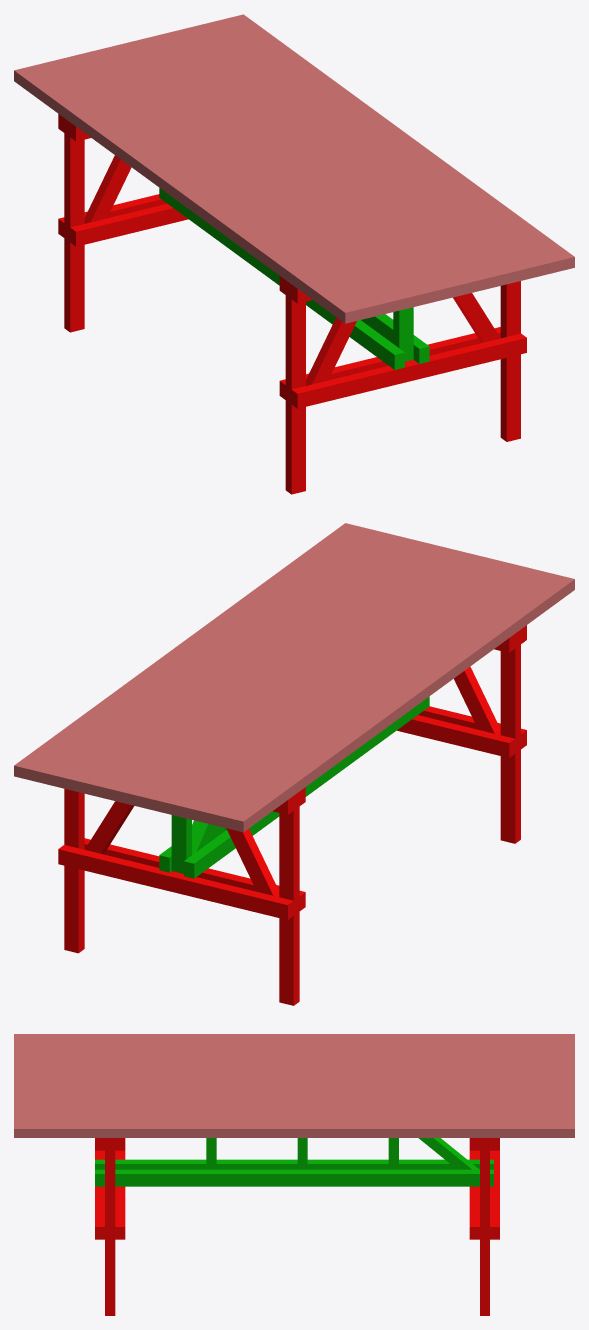
The model's file is result.glb.
The picture shows the model from 3 angles, top to bottom: view 1: azimuth 30°, elevation 25°; view 2: azimuth 150°, elevation 25°; view 3: azimuth 270°, elevation 25°; orthographic projection. The views are drawn at different scales.
Visible parts, largest first — view 1: bc7ca1d5-4bf3-4f80-877b-90ab5a0e6a28__Box, cbd51580-69b2-4e37-aab6-4c87bda5acf4__undefined, 4b376bc0-7a79-4678-9560-7ae77af9396f__undefined, aaada996-bd9d-4893-8df0-fd60da9d4931__undefined, 3e93f673-156d-4b93-aecb-b15bac3ff926__undefined, 1c0e351c-07f0-4777-8caa-ca30fa669742__undefined, e21acd7b-6370-4d5b-8054-edd0d2c820cb__undefined, e490df00-a222-4a5f-b118-ffced394d7e8__undefined, b035289c-e28d-44bf-9b0f-0f6e95bfee4e__undefined, 2f6dca5c-f766-4648-bf6b-dd4f1714ef22__undefined, 9b8a79d6-085e-4a81-bdf2-0b59204cf928__undefined, 53691ad2-52fc-4132-80f1-457ed4513b25__undefined (+17 smaller); view 2: bc7ca1d5-4bf3-4f80-877b-90ab5a0e6a28__Box, 9b8a79d6-085e-4a81-bdf2-0b59204cf928__undefined, e490df00-a222-4a5f-b118-ffced394d7e8__undefined, 53691ad2-52fc-4132-80f1-457ed4513b25__undefined, 2f6dca5c-f766-4648-bf6b-dd4f1714ef22__undefined, a8be9e64-4c8b-46ee-bf06-e202c7d90693__undefined, 6b5c2bfc-6cff-40a8-9102-c499b14c99c0__undefined, cbd51580-69b2-4e37-aab6-4c87bda5acf4__undefined, 4f3c63eb-ccbe-4453-beac-0d7cb98727b1__undefined, e21acd7b-6370-4d5b-8054-edd0d2c820cb__undefined, d8e7965c-5536-4617-9edd-14ce85f1e4e0__undefined, 4b376bc0-7a79-4678-9560-7ae77af9396f__undefined (+16 smaller); view 3: a8be9e64-4c8b-46ee-bf06-e202c7d90693__undefined, 0b390092-4693-448e-8827-ea68c1859a18__strutH, 9b8a79d6-085e-4a81-bdf2-0b59204cf928__undefined, d8e7965c-5536-4617-9edd-14ce85f1e4e0__undefined, 4b376bc0-7a79-4678-9560-7ae77af9396f__undefined, e490df00-a222-4a5f-b118-ffced394d7e8__undefined, aaada996-bd9d-4893-8df0-fd60da9d4931__undefined, b035289c-e28d-44bf-9b0f-0f6e95bfee4e__undefined, 53691ad2-52fc-4132-80f1-457ed4513b25__undefined, 4f3c63eb-ccbe-4453-beac-0d7cb98727b1__undefined, 1f507586-e944-4f97-b188-337954a376e5__strutH, bc7ca1d5-4bf3-4f80-877b-90ab5a0e6a28__Box (+13 smaller).
Part boxes in pixels (x1,y1,x2,y2): bc7ca1d5-4bf3-4f80-877b-90ab5a0e6a28__Box: [14, 67, 359, 323]; cbd51580-69b2-4e37-aab6-4c87bda5acf4__undefined: [215, 18, 560, 274]; 4b376bc0-7a79-4678-9560-7ae77af9396f__undefined: [86, 49, 431, 306]; aaada996-bd9d-4893-8df0-fd60da9d4931__undefined: [115, 42, 460, 298]; 3e93f673-156d-4b93-aecb-b15bac3ff926__undefined: [172, 28, 517, 284]; 1c0e351c-07f0-4777-8caa-ca30fa669742__undefined: [201, 21, 546, 277]; e21acd7b-6370-4d5b-8054-edd0d2c820cb__undefined: [43, 60, 388, 316]; e490df00-a222-4a5f-b118-ffced394d7e8__undefined: [100, 46, 445, 302]; b035289c-e28d-44bf-9b0f-0f6e95bfee4e__undefined: [129, 39, 474, 295]; 2f6dca5c-f766-4648-bf6b-dd4f1714ef22__undefined: [186, 25, 531, 281]; 9b8a79d6-085e-4a81-bdf2-0b59204cf928__undefined: [57, 56, 402, 313]; 53691ad2-52fc-4132-80f1-457ed4513b25__undefined: [143, 35, 488, 291]; bc7ca1d5-4bf3-4f80-877b-90ab5a0e6a28__Box: [229, 575, 574, 832]; 9b8a79d6-085e-4a81-bdf2-0b59204cf928__undefined: [186, 565, 531, 821]; e490df00-a222-4a5f-b118-ffced394d7e8__undefined: [143, 554, 488, 811]; 53691ad2-52fc-4132-80f1-457ed4513b25__undefined: [100, 544, 445, 800]; 2f6dca5c-f766-4648-bf6b-dd4f1714ef22__undefined: [57, 533, 402, 790]; a8be9e64-4c8b-46ee-bf06-e202c7d90693__undefined: [14, 523, 359, 779]; 6b5c2bfc-6cff-40a8-9102-c499b14c99c0__undefined: [215, 572, 560, 828]; cbd51580-69b2-4e37-aab6-4c87bda5acf4__undefined: [28, 526, 373, 783]; 4f3c63eb-ccbe-4453-beac-0d7cb98727b1__undefined: [85, 540, 430, 797]; e21acd7b-6370-4d5b-8054-edd0d2c820cb__undefined: [200, 568, 545, 825]; d8e7965c-5536-4617-9edd-14ce85f1e4e0__undefined: [172, 561, 516, 818]; 4b376bc0-7a79-4678-9560-7ae77af9396f__undefined: [157, 558, 502, 814]; a8be9e64-4c8b-46ee-bf06-e202c7d90693__undefined: [14, 1123, 574, 1137]; 0b390092-4693-448e-8827-ea68c1859a18__strutH: [95, 1169, 493, 1186]; 9b8a79d6-085e-4a81-bdf2-0b59204cf928__undefined: [14, 1051, 574, 1057]; d8e7965c-5536-4617-9edd-14ce85f1e4e0__undefined: [14, 1057, 574, 1063]; 4b376bc0-7a79-4678-9560-7ae77af9396f__undefined: [14, 1063, 574, 1069]; e490df00-a222-4a5f-b118-ffced394d7e8__undefined: [14, 1069, 574, 1075]; aaada996-bd9d-4893-8df0-fd60da9d4931__undefined: [14, 1075, 574, 1081]; b035289c-e28d-44bf-9b0f-0f6e95bfee4e__undefined: [14, 1081, 574, 1087]; 53691ad2-52fc-4132-80f1-457ed4513b25__undefined: [14, 1087, 574, 1093]; 4f3c63eb-ccbe-4453-beac-0d7cb98727b1__undefined: [14, 1093, 574, 1099]; 1f507586-e944-4f97-b188-337954a376e5__strutH: [95, 1159, 493, 1169]; bc7ca1d5-4bf3-4f80-877b-90ab5a0e6a28__Box: [14, 1034, 574, 1039].
Bounding box in the file's own units: 800 × 736 × 2000.
